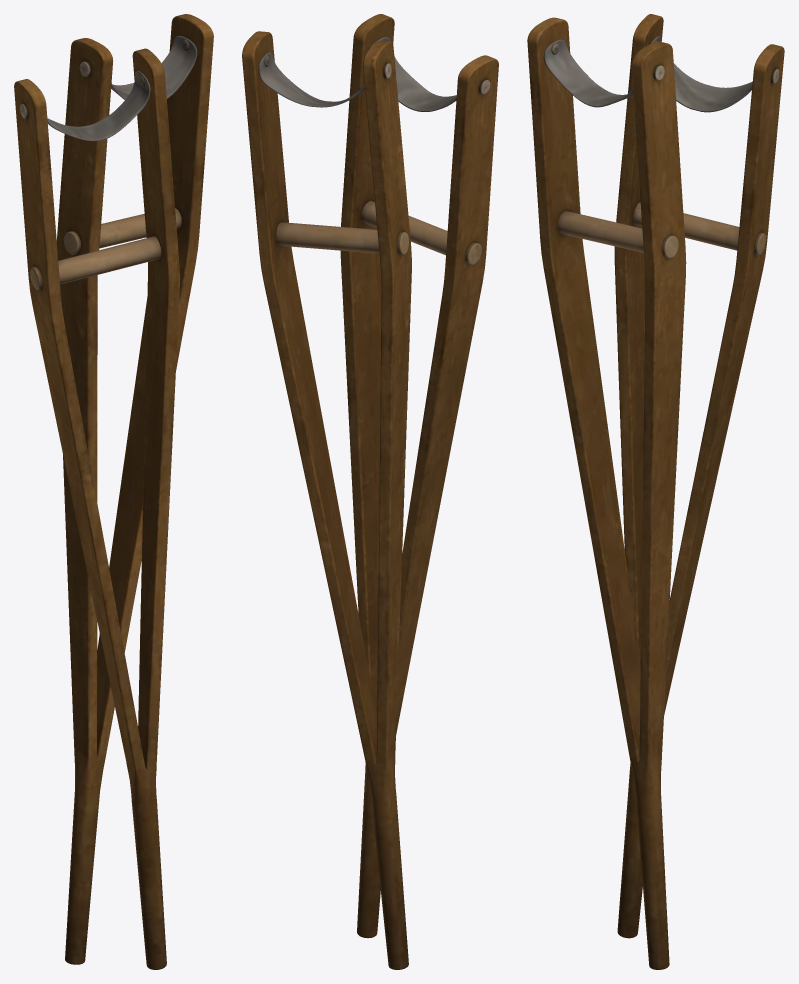
Rendered from vintage_crutches_01.glb.
3 renders of one model, left to right at view 1: azimuth 30°, elevation 25°; view 2: azimuth 150°, elevation 25°; view 3: azimuth 330°, elevation 25°, orthographic.
Parts seen in each view (by area): view 1: vintage_crutches_01_crutch01, vintage_crutches_01_crutch02; view 2: vintage_crutches_01_crutch02, vintage_crutches_01_crutch01; view 3: vintage_crutches_01_crutch01, vintage_crutches_01_crutch02.
Boxes of the visible parts, box(x1,y1,x2,y2) form: vintage_crutches_01_crutch01: box(14, 48, 179, 969); vintage_crutches_01_crutch02: box(56, 14, 213, 964); vintage_crutches_01_crutch02: box(242, 31, 411, 969); vintage_crutches_01_crutch01: box(340, 14, 498, 938); vintage_crutches_01_crutch01: box(527, 17, 686, 969); vintage_crutches_01_crutch02: box(614, 14, 784, 938).
Size of the model in its own units: 0.3838 by 1.6 by 0.2036.
1 material, 1 textured.
